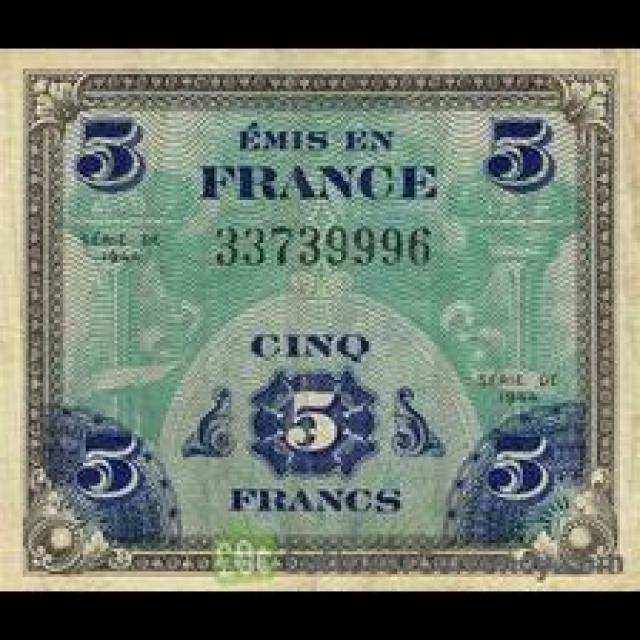banknote: (1, 45, 640, 588), (485, 84, 566, 214), (70, 396, 153, 522), (67, 97, 150, 211), (483, 416, 558, 518), (286, 377, 342, 468)
